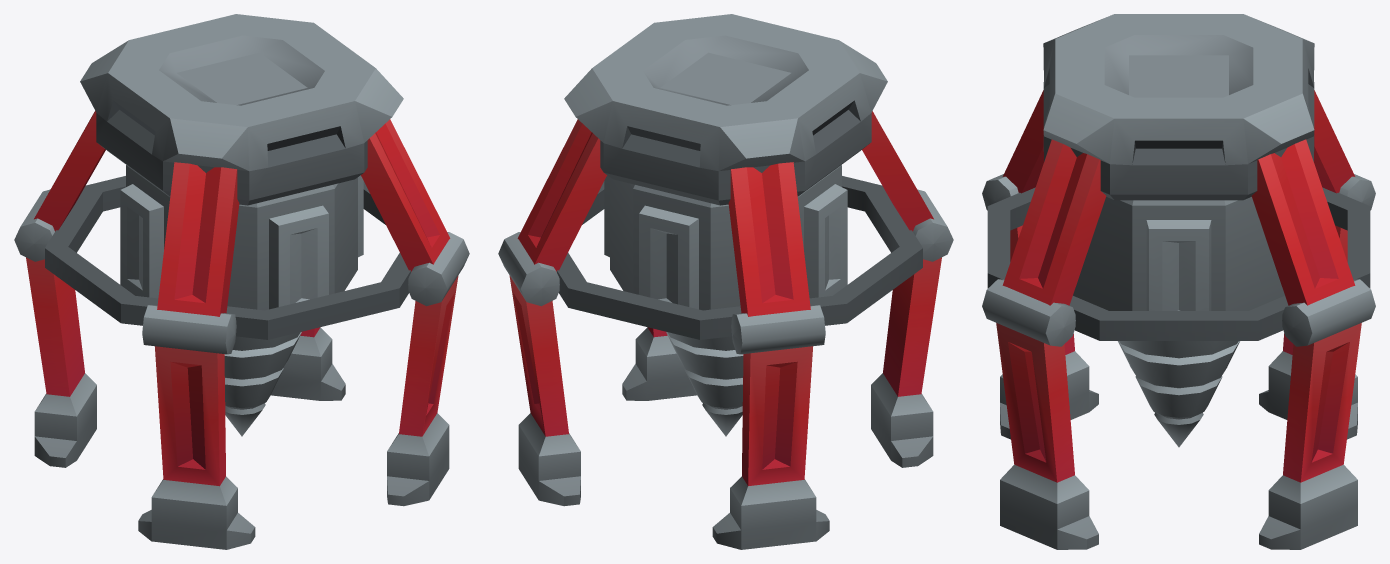
Rendered from drills.glb.
The picture shows the model from 3 angles, left to right: view 1: azimuth 30°, elevation 25°; view 2: azimuth 150°, elevation 25°; view 3: azimuth 270°, elevation 25°; orthographic projection. The views are drawn at different scales.
Parts seen in each view (by area): view 1: drill_structure, drill_structure.001; view 2: drill_structure, drill_structure.001; view 3: drill_structure, drill_structure.001.
Boxes of the visible parts, bbox=[...] form: drill_structure: bbox=[14, 14, 469, 549]; drill_structure.001: bbox=[224, 332, 301, 436]; drill_structure: bbox=[498, 14, 953, 549]; drill_structure.001: bbox=[666, 332, 743, 436]; drill_structure: bbox=[982, 14, 1375, 549]; drill_structure.001: bbox=[1118, 341, 1239, 447].
Size of the model in its own units: 1.75 by 2 by 1.75.
Materials: 1 (1 with a texture image).
